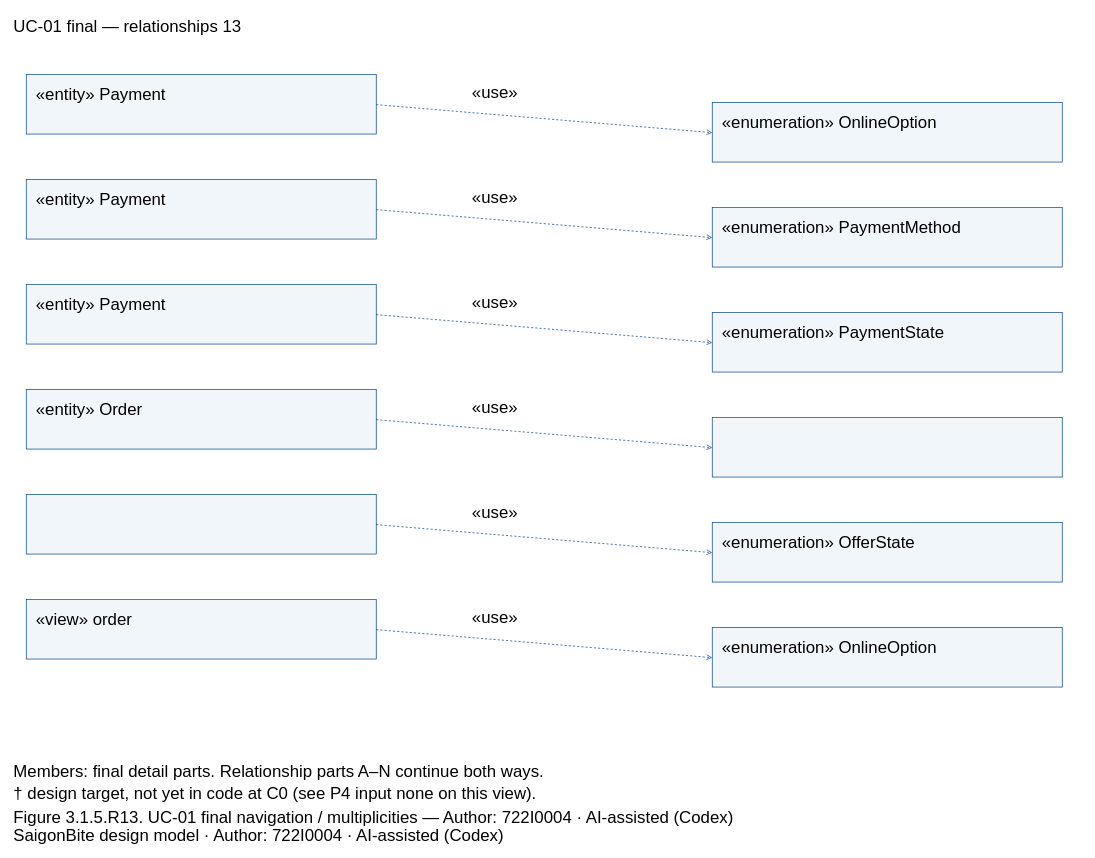
Image size: 1095x858. Some labels were removed from this diagram. The shapes that lost their labels are listed below. From the top down, each one's box as (x1, y1, x2, y2) in pixels, then its label:
(712, 417, 1062, 477): «enumeration» OrderState
(26, 494, 376, 554): «entity» ReplacementOffer
